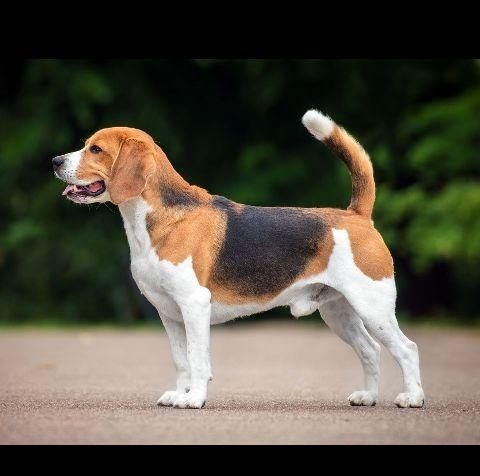adult_dog: (53, 109, 425, 409)
